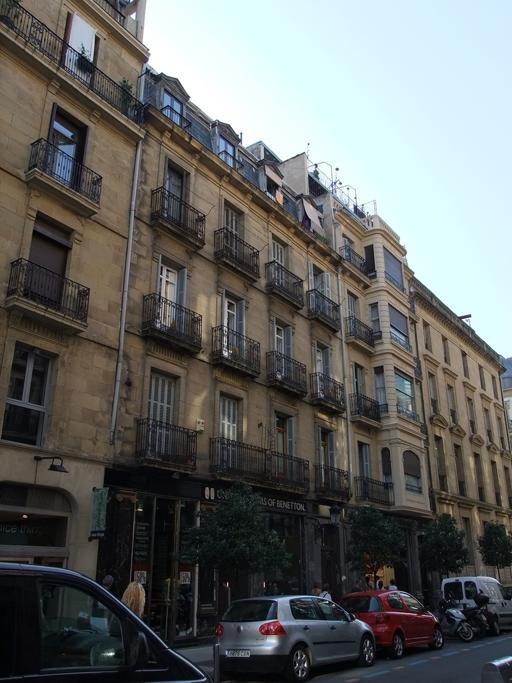non-vehicle: (434, 592, 473, 641), (460, 588, 490, 636)
